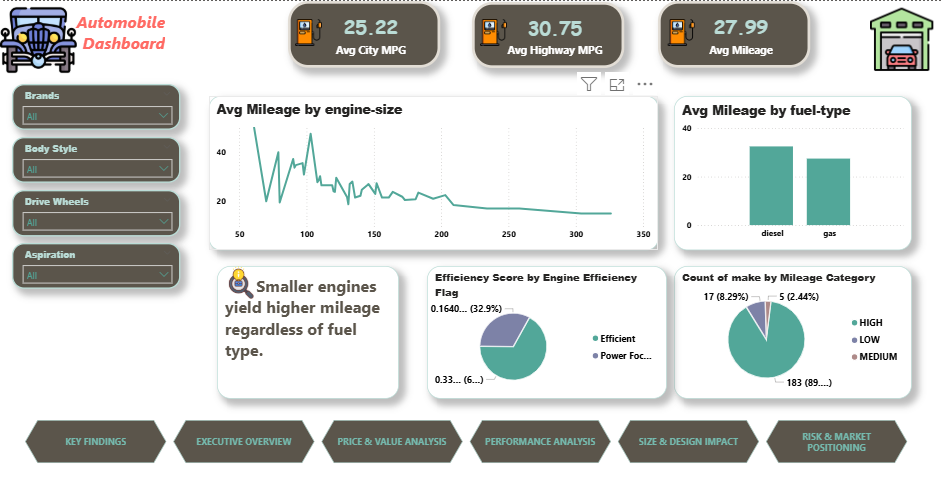

The dashboard page shown, as its layout file describes it:
{"tool":"powerbi","page":{"name":"FUEL & EFFICIENCY","canvas":[1400,720],"ordinal":5},"visuals":[{"type":"card","fields":{"Values":["automobile_data.Avg Highway MPG"]},"box":[700.7,1.5,226,98],"z":0},{"type":"image","box":[712.2,27.1,40,40],"z":1000},{"type":"slicer","fields":{"Values":["automobile_data.make"]},"box":[18.1,122.9,249.6,68],"z":2000},{"type":"slicer","fields":{"Values":["automobile_data.body-style"]},"box":[18.1,202.1,250,68],"z":3000},{"type":"slicer","fields":{"Values":["automobile_data.drive-wheels"]},"box":[18.1,280.9,250.2,68.8],"z":4000},{"type":"slicer","fields":{"Values":["automobile_data.aspiration"]},"box":[18.1,359,250.2,67.8],"z":5000},{"type":"textbox","box":[0,9.4,250.2,81.3],"z":6000},{"type":"image","box":[0,0,113.6,115.9],"z":7000},{"type":"image","box":[1291.6,5.9,93.5,102.4],"z":8000},{"type":"card","fields":{"Values":["automobile_data.Avg City MPG"]},"box":[427.6,0,226,99.5],"z":9000},{"type":"image","box":[438,26.7,40.1,40.1],"z":10000},{"type":"card","fields":{"Values":["automobile_data.Avg Mileage"]},"box":[976.9,0,226,99.5],"z":11000},{"type":"image","box":[990.2,26.7,41.6,40.1],"z":12000},{"type":"columnChart","fields":{"Category":["automobile_data.fuel-type"],"Y":["automobile_data.Avg Mileage"]},"box":[1000.6,141,353.3,228.6],"z":13000},{"type":"lineChart","fields":{"Y":["automobile_data.Avg Mileage"],"Category":["automobile_data.engine-size"]},"box":[310.3,141,666.6,228.6],"z":14000},{"type":"pieChart","fields":{"Category":["automobile_data.Mileage Category"],"Y":["CountNonNull(automobile_data.make)"]},"box":[1000.6,393.4,353.3,197.5],"z":15000},{"type":"pieChart","title":"Efficiency Score by Engine Efficiency Flag","fields":{"Y":["Avg(automobile_data.Efficiency Score)"],"Category":["automobile_data.Engine Efficiency Flag"]},"box":[633.9,393.4,356.3,197.5],"z":16000},{"type":"textbox","box":[322.2,393.4,270.2,197.5],"z":17000},{"type":"image","box":[332.6,393.4,52,49],"z":18000},{"type":"pageNavigator","box":[37.5,622.4,1315.9,64.7],"z":19000}]}

Visuals, with their boxes in screenshot pixels (x1, y1, x2, y2), scaled from the page's 1400x720 canvas onto the 943x485 screenshot:
card - automobile_data.Avg Highway MPG: left=472, top=1, right=624, bottom=67
image: left=480, top=18, right=507, bottom=45
slicer - automobile_data.make: left=12, top=83, right=180, bottom=129
slicer - automobile_data.body-style: left=12, top=136, right=181, bottom=182
slicer - automobile_data.drive-wheels: left=12, top=189, right=181, bottom=236
slicer - automobile_data.aspiration: left=12, top=242, right=181, bottom=287
textbox: left=0, top=6, right=169, bottom=61
image: left=0, top=0, right=77, bottom=78
image: left=870, top=4, right=933, bottom=73
card - automobile_data.Avg City MPG: left=288, top=0, right=440, bottom=67
image: left=295, top=18, right=322, bottom=45
card - automobile_data.Avg Mileage: left=658, top=0, right=810, bottom=67
image: left=667, top=18, right=695, bottom=45
columnChart - automobile_data.fuel-type x automobile_data.Avg Mileage: left=674, top=95, right=912, bottom=249
lineChart - automobile_data.Avg Mileage x automobile_data.engine-size: left=209, top=95, right=658, bottom=249
pieChart - automobile_data.Mileage Category x CountNonNull(automobile_data.make): left=674, top=265, right=912, bottom=398
"Efficiency Score by Engine Efficiency Flag" pieChart: left=427, top=265, right=667, bottom=398
textbox: left=217, top=265, right=399, bottom=398
image: left=224, top=265, right=259, bottom=298
pageNavigator: left=25, top=419, right=912, bottom=463
